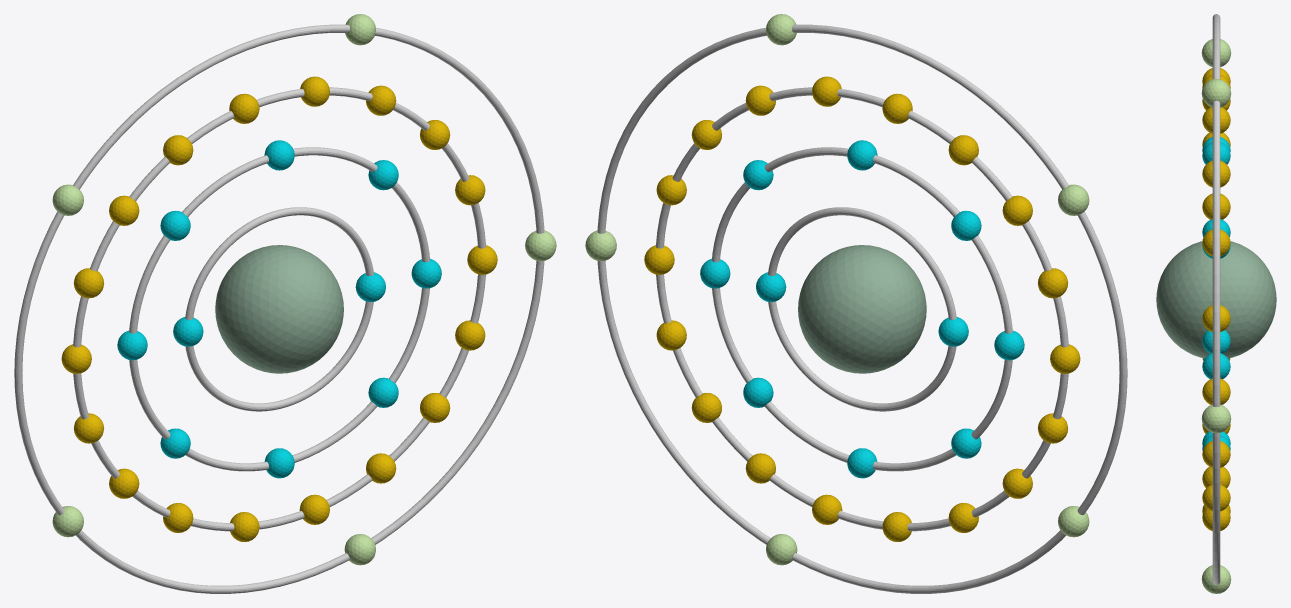
3 views of the same model, side by side, from view 1: azimuth 30°, elevation 25°; view 2: azimuth 150°, elevation 25°; view 3: azimuth 270°, elevation 25° (orthographic). The views are drawn at different scales.
Visible parts, largest first — view 1: Camada_4, Nucleo_As, Camada_3, Camada_2, Camada_1, e4_3, e4_5, e4_1, e4_2, e4_4, e2_4, e3_8 (+25 smaller); view 2: Camada_4, Nucleo_As, Camada_3, Camada_2, Camada_1, e4_3, e4_5, e4_1, e4_2, e4_4, e2_4, e3_8 (+25 smaller); view 3: Nucleo_As, Camada_4, e4_1, e4_2, e4_5, e4_3, e3_17, e3_3, e3_4, e3_18, e3_2, e3_5 (+8 smaller).
Boxes of the visible parts, <box> form: Camada_4: <box>14,24,544,593</box>; Nucleo_As: <box>215,245,343,373</box>; Camada_3: <box>73,87,485,531</box>; Camada_2: <box>129,147,429,471</box>; Camada_1: <box>185,207,373,411</box>; e4_3: <box>52,184,83,215</box>; e4_5: <box>344,534,375,565</box>; e4_1: <box>525,230,556,261</box>; e4_2: <box>345,14,375,45</box>; e4_4: <box>52,506,83,537</box>; e2_4: <box>160,210,190,240</box>; e3_8: <box>109,195,139,225</box>; Camada_4: <box>597,24,1127,593</box>; Nucleo_As: <box>798,245,926,373</box>; Camada_3: <box>656,87,1068,531</box>; Camada_2: <box>712,147,1012,471</box>; Camada_1: <box>768,207,956,411</box>; e4_3: <box>1058,184,1089,215</box>; e4_5: <box>766,534,797,565</box>; e4_1: <box>585,230,616,261</box>; e4_2: <box>766,14,796,45</box>; e4_4: <box>1058,506,1089,537</box>; e2_4: <box>951,210,981,240</box>; e3_8: <box>1002,195,1032,225</box>; Nucleo_As: <box>1156,241,1276,358</box>; Camada_4: <box>1212,14,1220,584</box>; e4_1: <box>1201,404,1231,433</box>; e4_2: <box>1201,79,1231,107</box>; e4_5: <box>1201,565,1231,593</box>; e4_3: <box>1201,39,1231,66</box>; e3_17: <box>1202,484,1230,511</box>; e3_3: <box>1202,229,1230,256</box>; e3_4: <box>1202,160,1230,187</box>; e3_18: <box>1202,441,1230,467</box>; e3_2: <box>1202,305,1230,331</box>; e3_5: <box>1202,107,1230,133</box>.
Size of the model in its own units: 2.13 by 2.09 by 0.44.
